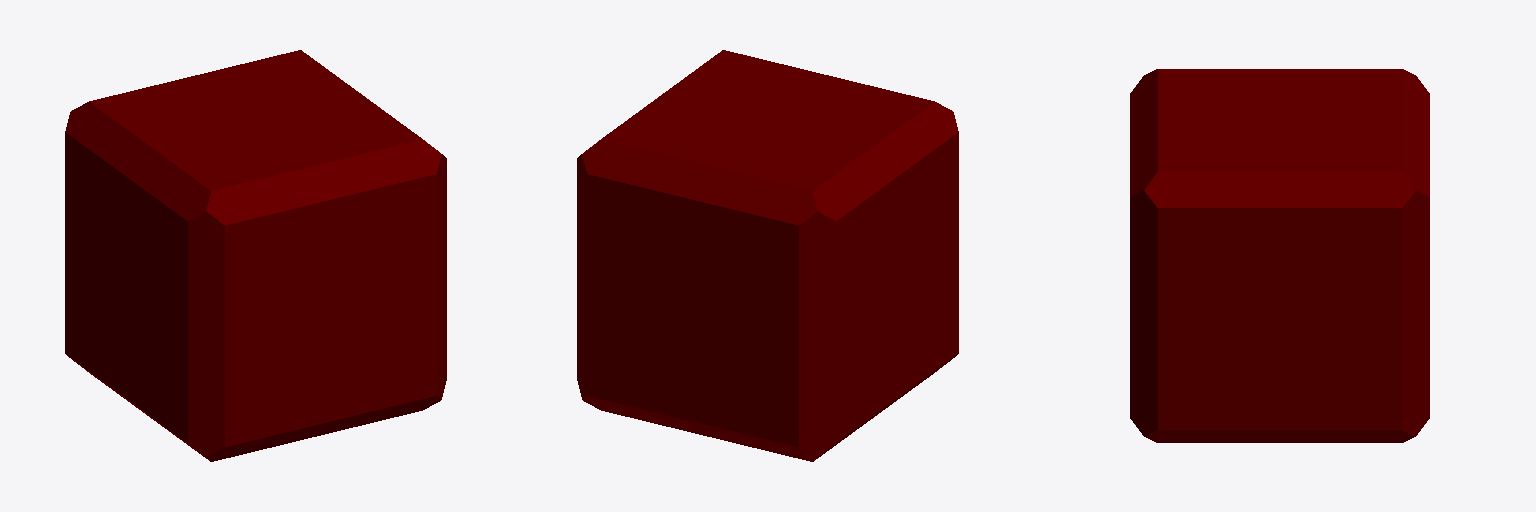
Rendered from SinglePiece-5.obj.
3 views of the same model, side by side, from view 1: azimuth 30°, elevation 25°; view 2: azimuth 150°, elevation 25°; view 3: azimuth 270°, elevation 25° (orthographic).
Parts seen in each view (by area): view 1: Cube; view 2: Cube; view 3: Cube.
Boxes of the visible parts, x1=… form: Cube: x1=65, y1=50, x2=446, y2=461; Cube: x1=577, y1=50, x2=958, y2=461; Cube: x1=1130, y1=69, x2=1429, y2=442.
Size of the model in its own units: 1 by 1 by 1.